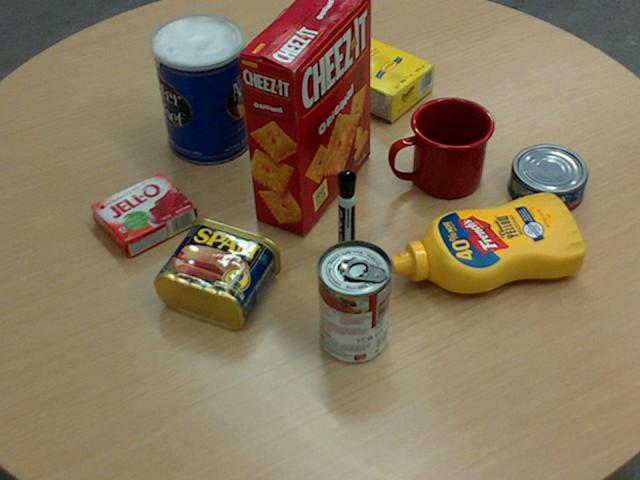cracker_box: (236, 0, 371, 235)
gelatin_box: (90, 171, 196, 256)
large_marker: (336, 170, 356, 264)
master_chef_can: (151, 13, 251, 164)
mug: (389, 96, 494, 197)
mustard_bottle: (388, 192, 584, 293)
potted_meat_can: (153, 216, 281, 328)
sugar_box: (283, 17, 434, 121)
tomato_soup_can: (315, 239, 390, 362)
tuna_fish_can: (507, 143, 586, 213)
